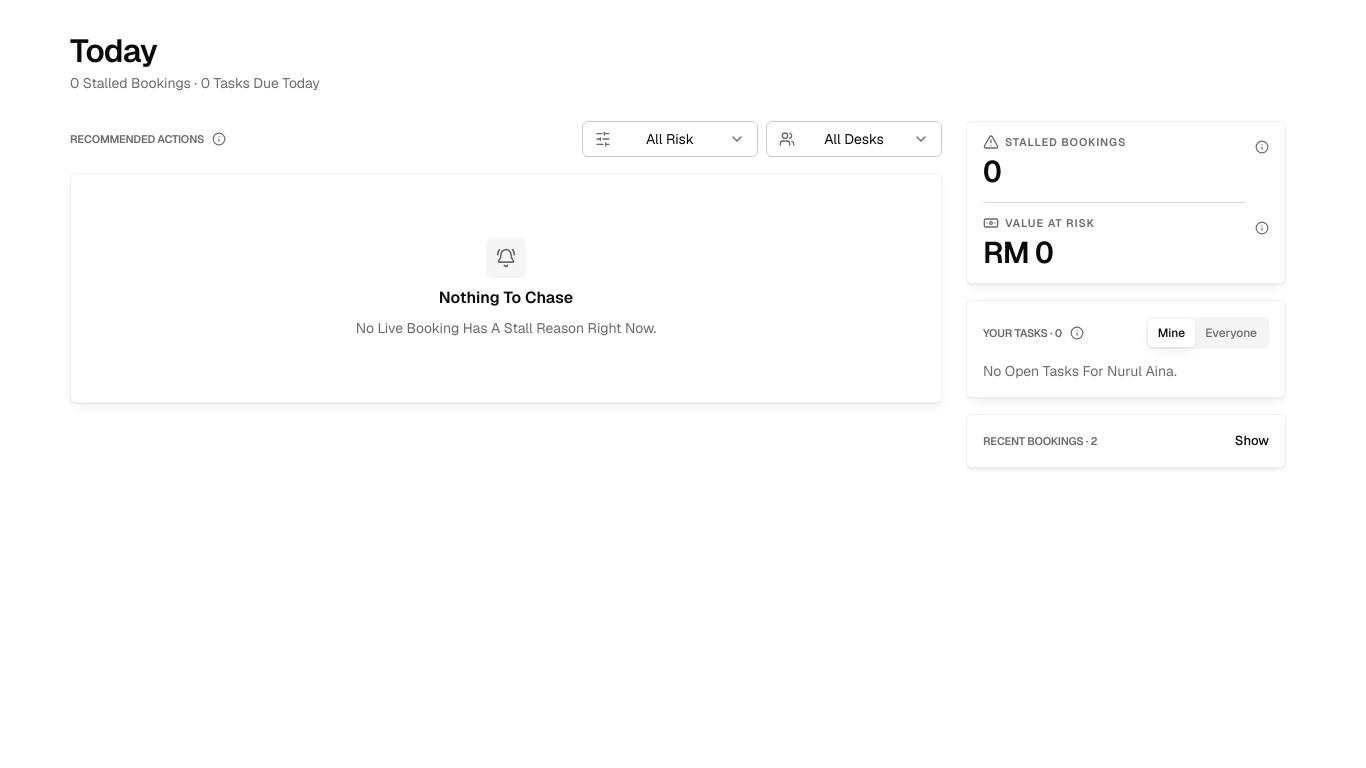
Test case: ChasePage › shows only bookings created during the trailing seven calendar days
Check: the text "BK-TODAY" is not shown
Step 1. Click the button "Show" → click(1252, 441), box [1235,431,1269,451]
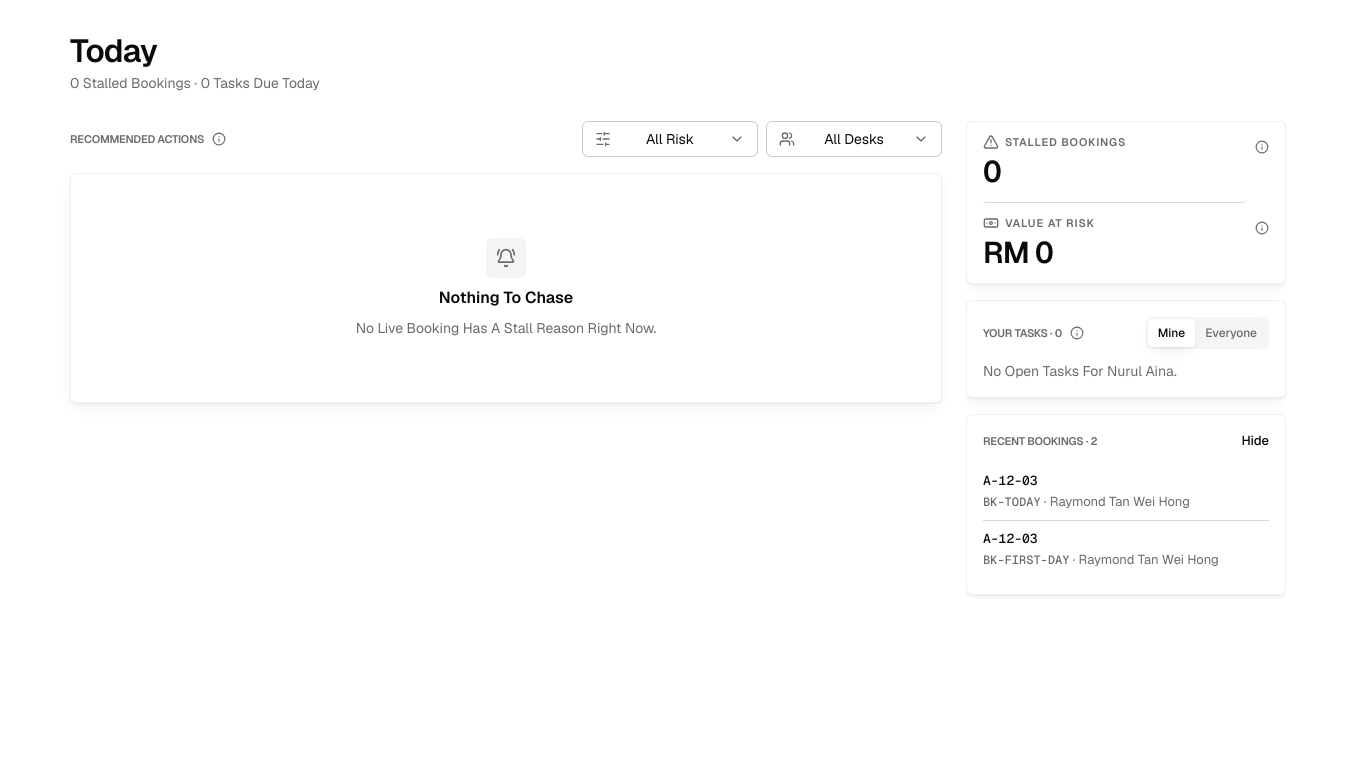
Check: the heading "Recent Bookings · 2" is shown, box [983,434,1097,448]
Check: the text "BK-TODAY" is shown, box [983,494,1041,510]
Check: the text "BK-FIRST-DAY" is shown, box [983,552,1069,568]
